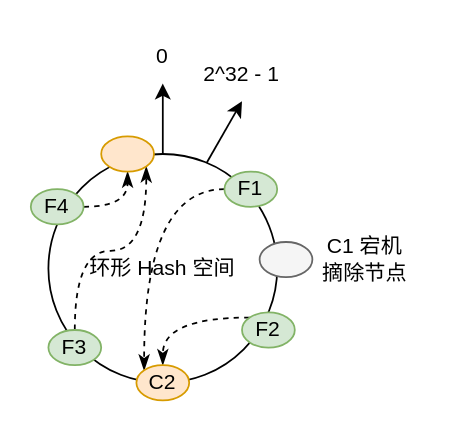
This 449x431 diagram has some shape labels left out. Each missing label, with the centre of its shape:
C1: the point at 285,258
C3: the point at 126,153
